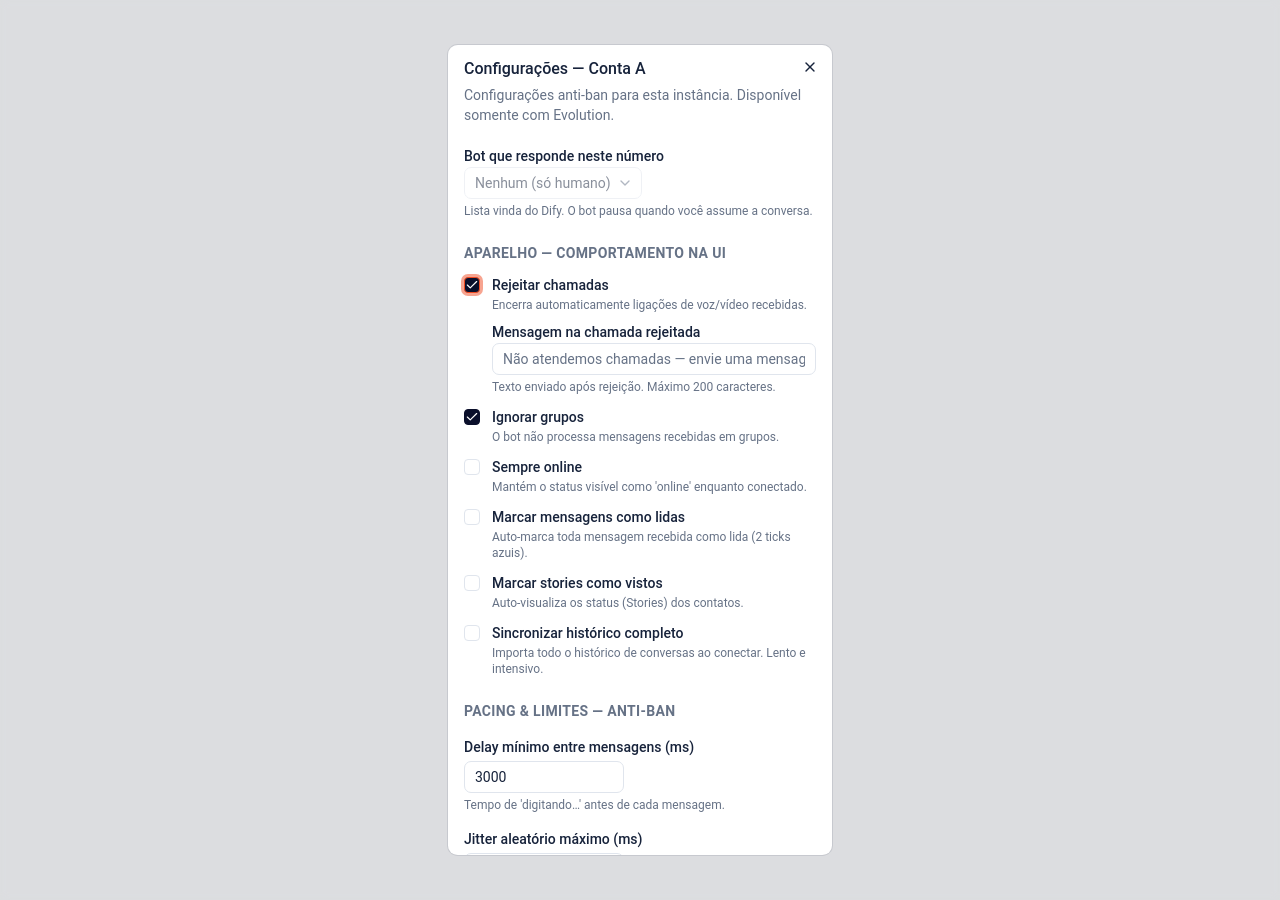
Test: InstanceConfigDrawer — RECOMMENDED badge › shows a Recomendado badge once a field diverges from RECOMMENDED
The image size is (1280, 900).
What coordinates should you click on to do the following:
click the checkbox next to "Sempre online"
I would click on:
 (472, 467)
Its box is top-left (464, 459), bottom-right (480, 475).
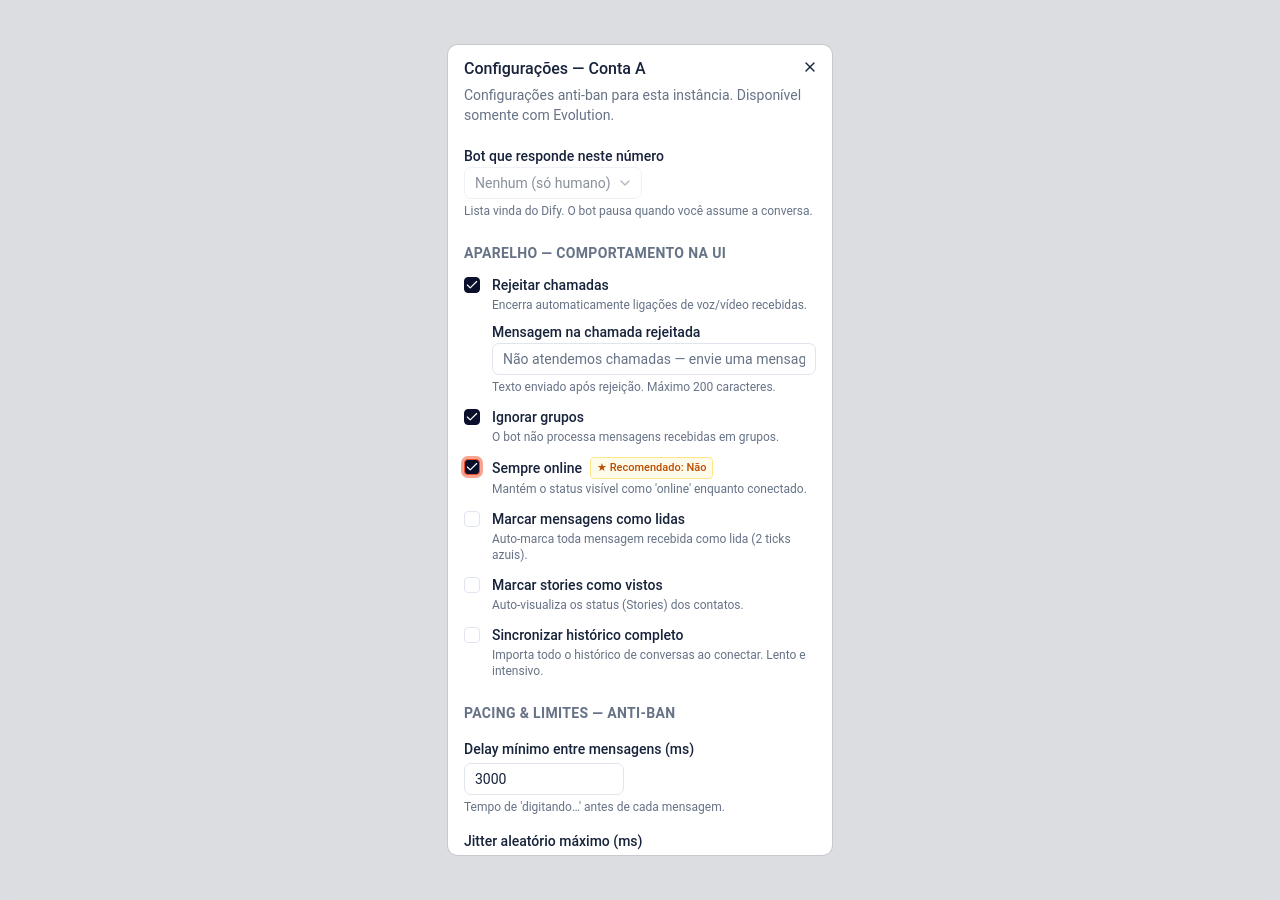
Expected: the text "★ Recomendado: Não" is shown, top-left (590, 457), bottom-right (714, 479)
